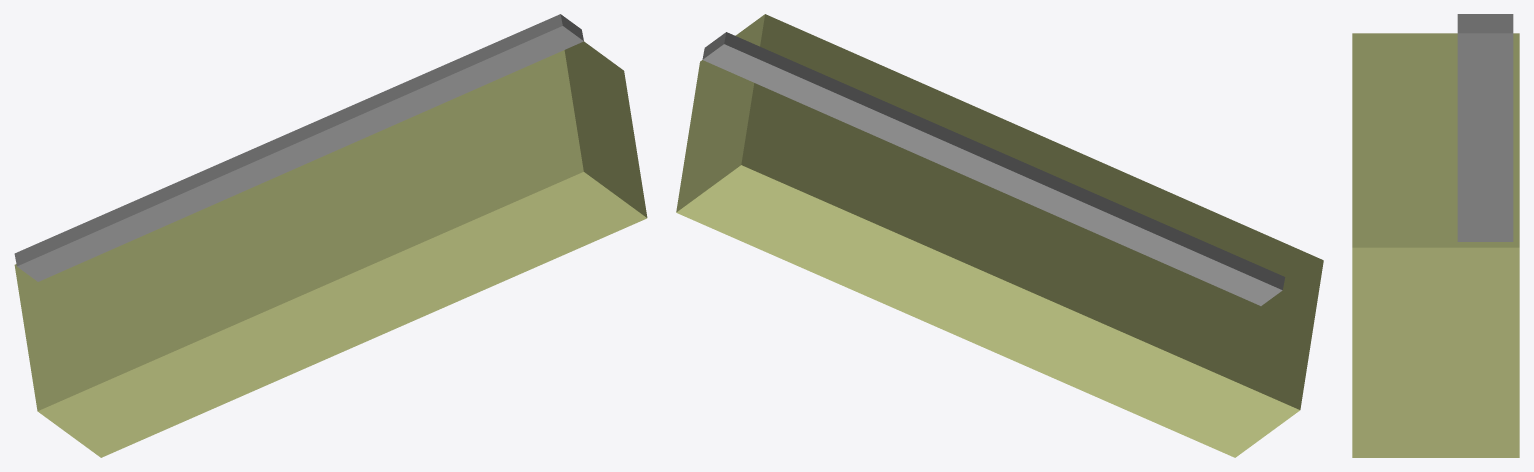
The picture shows the model from 3 angles, left to right: view 1: azimuth 30°, elevation 25°; view 2: azimuth 150°, elevation 25°; view 3: azimuth 270°, elevation 25°; orthographic projection. The views are drawn at different scales.
Parts seen in each view (by area): view 1: 0_2_0_1_2_2_2_1_3; view 2: 0_2_0_1_2_2_2_1_3; view 3: 0_2_0_1_2_2_2_1_3.
Part boxes in pixels (x1,y1,x2,y2): 0_2_0_1_2_2_2_1_3: (14,14,647,457); 0_2_0_1_2_2_2_1_3: (676,14,1323,457); 0_2_0_1_2_2_2_1_3: (1352,14,1519,457).
Size of the model in its own units: 46.66 by 21.22 by 9.
